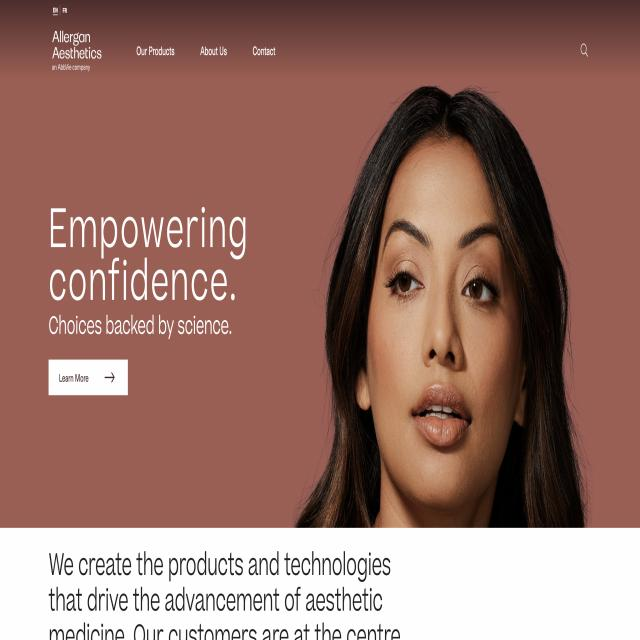Logo: (47, 28, 111, 78)
Navigation: (124, 35, 297, 71)
